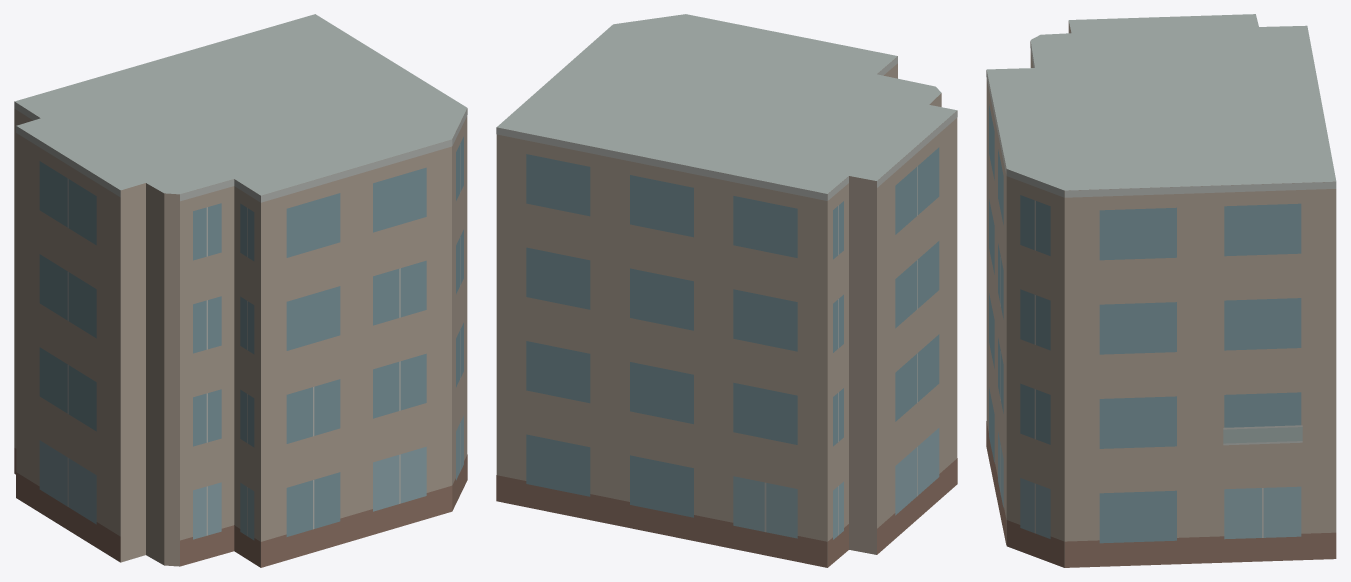
Rendered from survey-upis-32659362.glb.
3 renders of one model, left to right at view 1: azimuth 30°, elevation 25°; view 2: azimuth 150°, elevation 25°; view 3: azimuth 270°, elevation 25°, orthographic.
Visible parts, largest first — view 1: survey-upis-32659362.tmp; view 2: survey-upis-32659362.tmp; view 3: survey-upis-32659362.tmp.
Boxes of the visible parts, x1=… form: survey-upis-32659362.tmp: x1=14, y1=14, x2=467, y2=567; survey-upis-32659362.tmp: x1=496, y1=14, x2=957, y2=567; survey-upis-32659362.tmp: x1=986, y1=14, x2=1336, y2=567.
Size of the model in its own units: 12.91 by 12.85 by 10.81.
